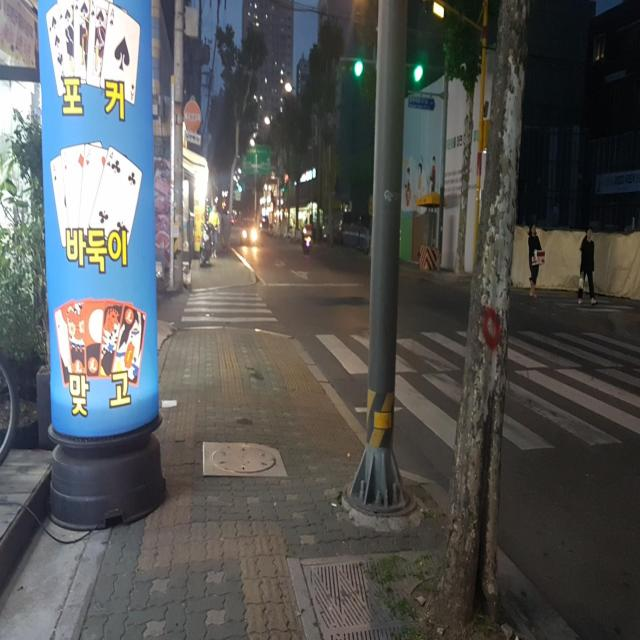횡단보도: (313, 324, 640, 461), (181, 291, 277, 322)
